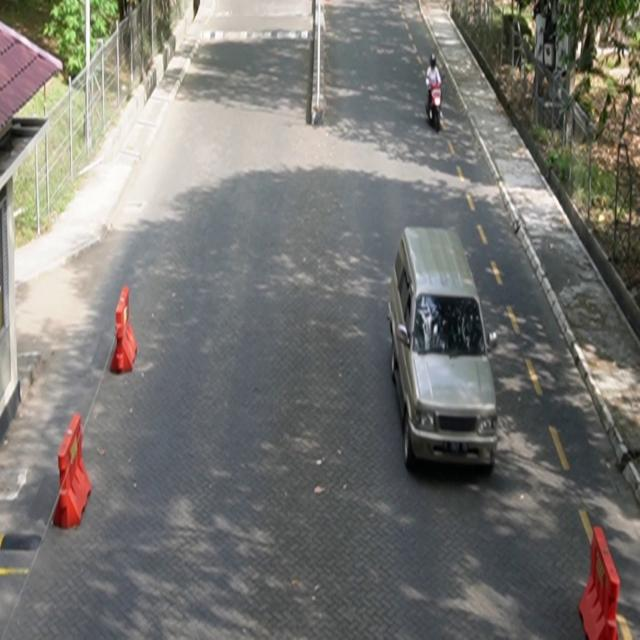car: (388, 226, 499, 473)
